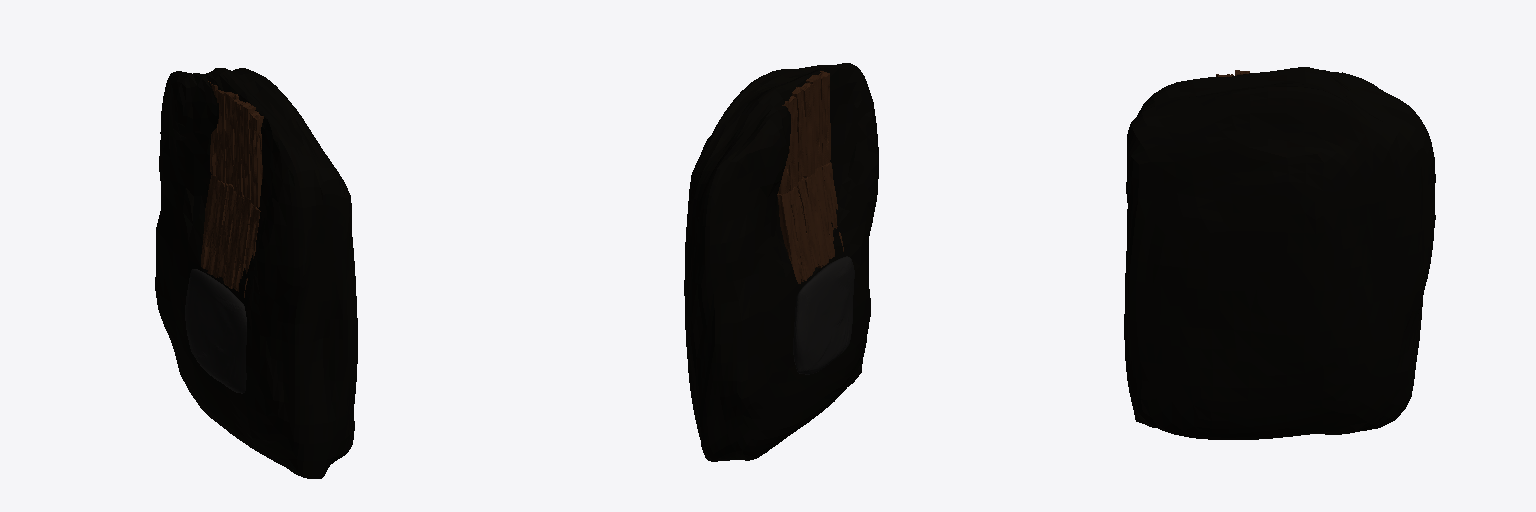
The model's file is pplate.obj.
3 renders of one model, left to right at view 1: azimuth 30°, elevation 25°; view 2: azimuth 150°, elevation 25°; view 3: azimuth 270°, elevation 25°, orthographic.
Visible parts, largest first — view 1: Cube.007_Cube.018, Cube.005_Cube.017, Cube.004_Cube.016, Cube.014_Cube.002; view 2: Cube.007_Cube.018, Cube.005_Cube.017, Cube.004_Cube.016, Cube.014_Cube.002; view 3: Cube.007_Cube.018.
Boxes of the visible parts, x1,y1,x2,y2 form: Cube.007_Cube.018: [155, 68, 357, 478]; Cube.005_Cube.017: [185, 269, 246, 393]; Cube.004_Cube.016: [201, 175, 260, 297]; Cube.014_Cube.002: [208, 81, 263, 207]; Cube.007_Cube.018: [684, 63, 878, 461]; Cube.005_Cube.017: [793, 256, 854, 374]; Cube.004_Cube.016: [777, 162, 843, 283]; Cube.014_Cube.002: [778, 71, 830, 194]; Cube.007_Cube.018: [1124, 67, 1435, 439].
Bounding box in the file's own units: 2.31 × 7.19 × 5.63.